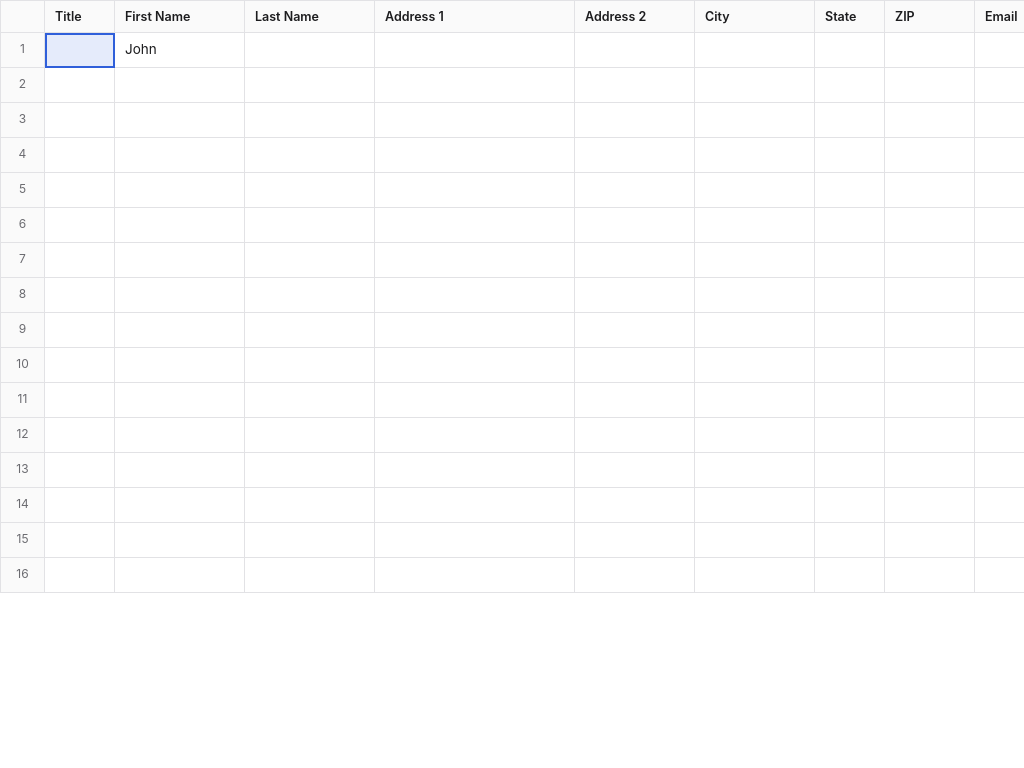
Test: selection vs. editing › F2 enters editing on the selected cell
Step 1. Press the mouse on the cell "John" → (180, 50), box [114,32,244,68]
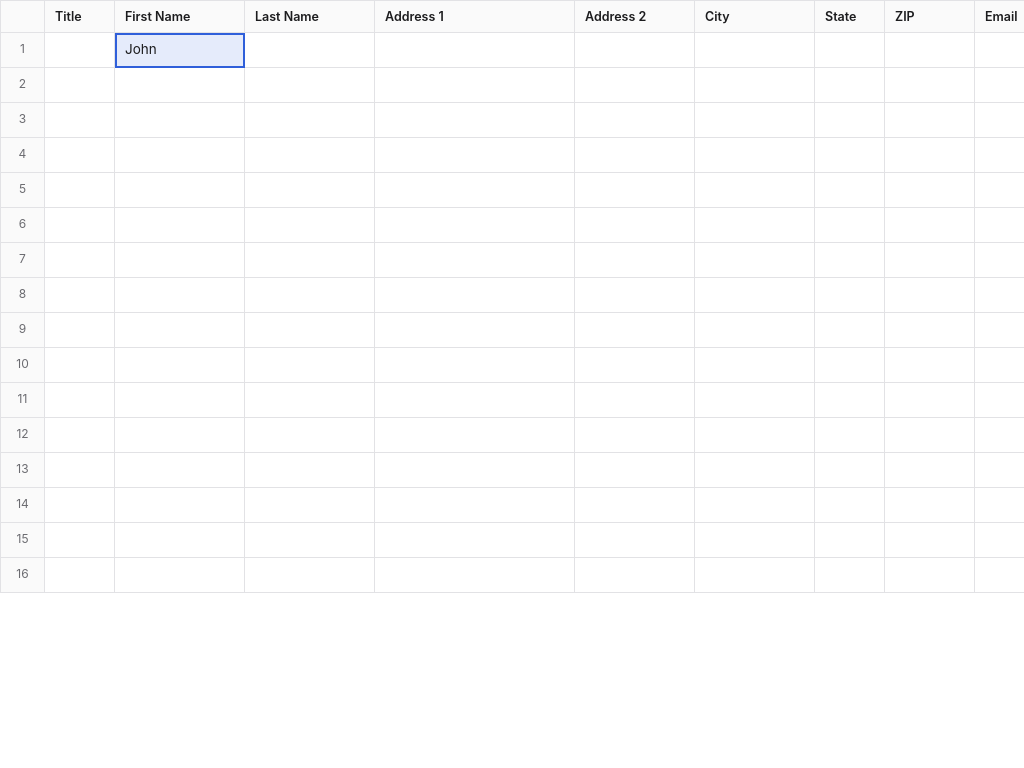
Step 2. Press F2 in the element with test id "grid-wrapper"
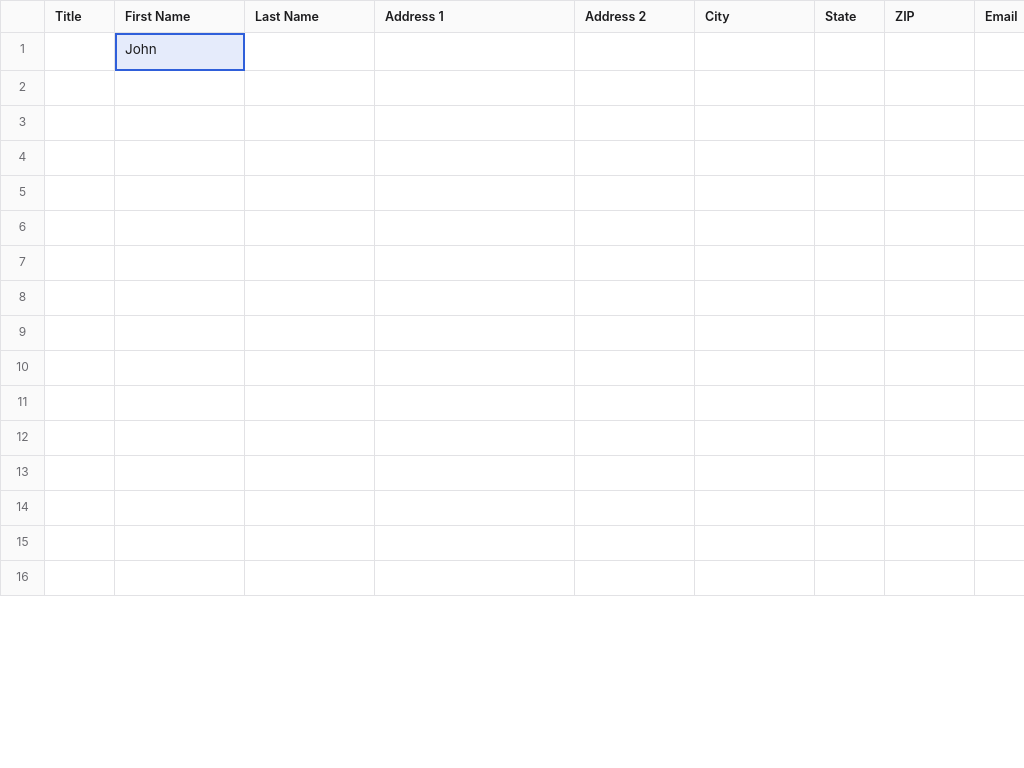
Expected: the text box with class "cell-editor" holds "John", [115,33,244,67]
Expected: the text box with class "cell-editor" is shown, [115,33,244,67]
